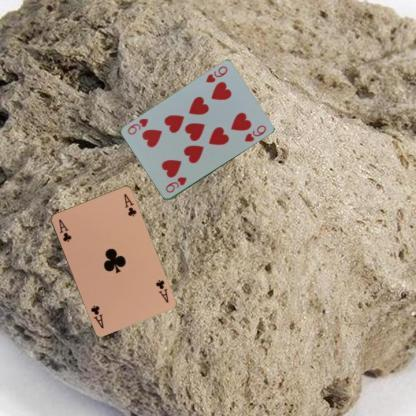9h: (203, 64, 229, 84), (163, 174, 188, 194)
Ac: (152, 277, 170, 304), (56, 216, 73, 244)
